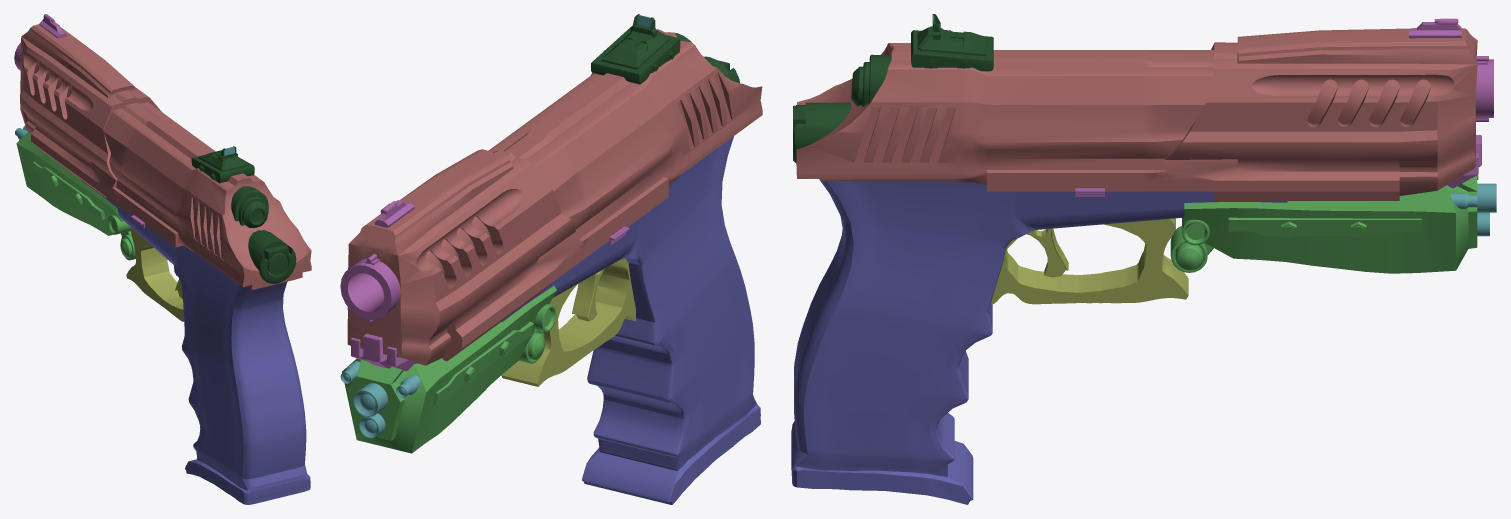
File: cyberpunk pisol.fbx
3 views of the same model, side by side, from view 1: azimuth 30°, elevation 25°; view 2: azimuth 150°, elevation 25°; view 3: azimuth 270°, elevation 25° (orthographic). The views are drawn at different scales.
Parts seen in each view (by area): view 1: pCube47, pCube3, pCylinder36, polySurface10, pCube52, pCube51; view 2: pCube47, pCube3, pCylinder36, pCube52, pCube51, polySurface10, pSphere6; view 3: pCube47, pCube3, pCylinder36, pCube52, polySurface10, pCube51, pSphere6.
Part boxes in pixels (x1,y1,x2,y2): pCube47: (20, 24, 311, 289); pCube3: (81, 180, 310, 504); pCylinder36: (16, 128, 135, 260); polySurface10: (191, 146, 296, 283); pCube52: (126, 228, 184, 321); pCube51: (14, 14, 145, 228); pCube47: (347, 29, 762, 365); pCube3: (501, 136, 760, 504); pCylinder36: (342, 285, 556, 453); pCube52: (501, 258, 635, 386); pCube51: (340, 200, 629, 371); polySurface10: (591, 14, 739, 84); pSphere6: (340, 15, 651, 438); pCube47: (796, 28, 1477, 200); pCube3: (791, 179, 1287, 504); pCylinder36: (1170, 175, 1477, 273); pCube52: (991, 218, 1188, 304); polySurface10: (793, 14, 993, 163); pCube51: (1075, 18, 1493, 196); pSphere6: (933, 15, 1496, 236).
Size of the model in its own units: 0.2046 by 0.8281 by 1.14.
